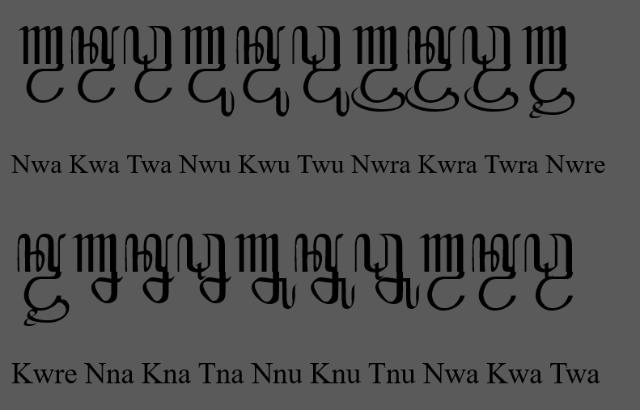Kn: (125, 233, 175, 305)
Knu: (293, 233, 357, 310)
Kw: (70, 24, 121, 104), (471, 232, 521, 312)
Kwr: (406, 24, 460, 112)
Kwre: (16, 231, 70, 327)
Kwu: (236, 24, 290, 117)
Nn: (70, 233, 124, 305)
Nnu: (233, 233, 297, 312)
Nw: (418, 234, 467, 312), (18, 24, 64, 104)
Nwr: (350, 25, 406, 113)
Nwre: (522, 25, 576, 121)
Nwu: (180, 25, 236, 118)
Tn: (176, 233, 232, 304)
Tnu: (354, 232, 421, 310)
Tw: (123, 24, 173, 104), (524, 233, 574, 312)
Twr: (462, 23, 520, 113)
Twu: (292, 24, 351, 118)
